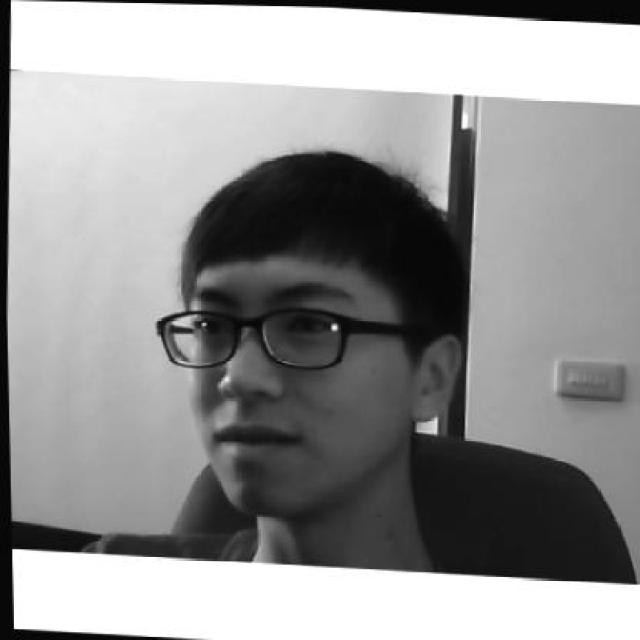attentif: (150, 138, 470, 524)
